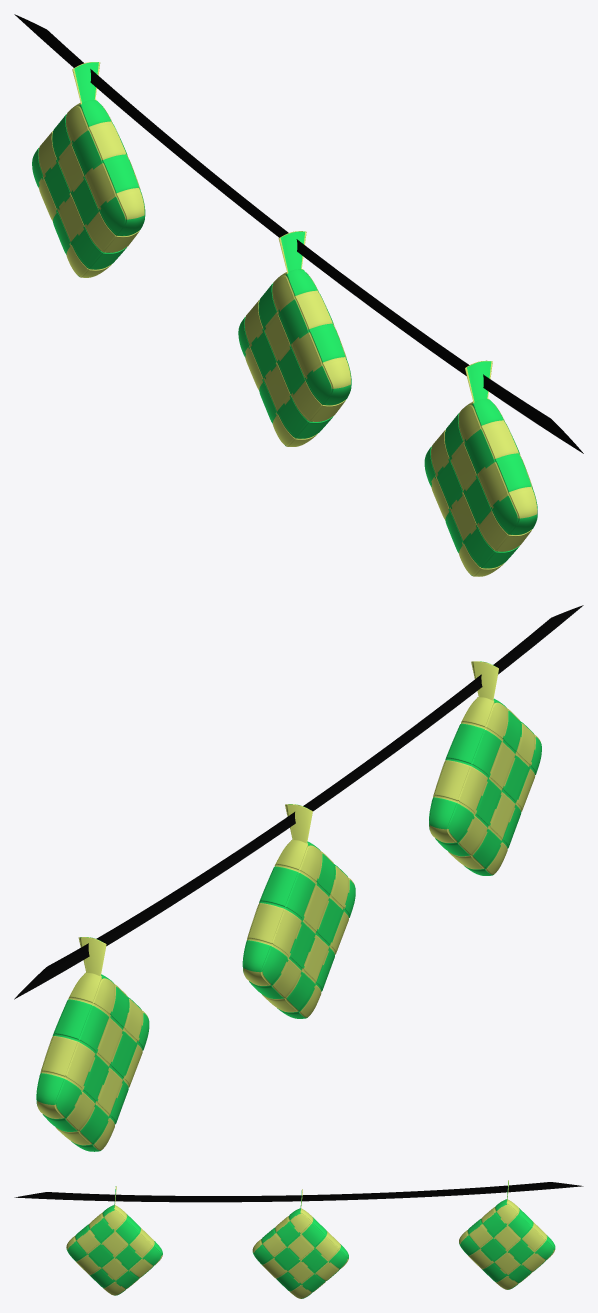
Rendered from ketupathanging.fbx.
3 views of the same model, one above another, from view 1: azimuth 30°, elevation 25°; view 2: azimuth 150°, elevation 25°; view 3: azimuth 270°, elevation 25° (orthographic). The views are drawn at different scales.
Parts seen in each view (by area): view 1: Cube.001; view 2: Cube.001; view 3: Cube.001.
Boxes of the visible parts, bbox=[...] form: Cube.001: bbox=[14, 14, 583, 576]; Cube.001: bbox=[14, 605, 583, 1151]; Cube.001: bbox=[14, 1180, 583, 1298].
Bounding box in the file's own units: 42.64 × 216 × 959.
